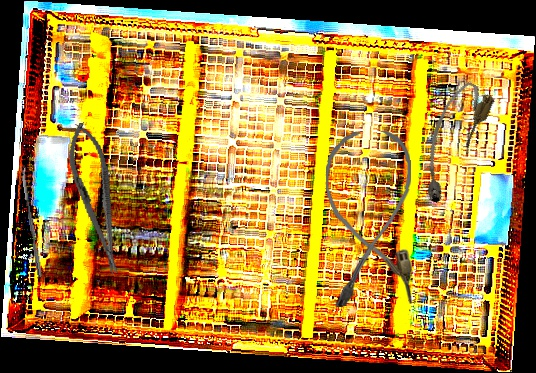Cannula: (324, 130, 416, 307), (405, 76, 498, 208)
Needle Holder: (59, 119, 133, 278)
Surgical Spoon: (20, 165, 43, 278)
